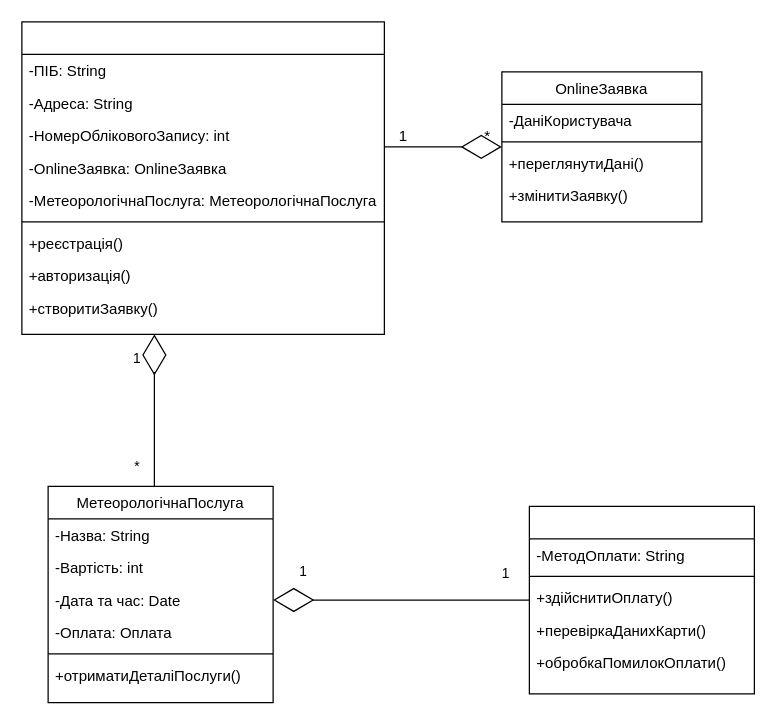
The diagram is 776 pixels wide and 725 high, and some of its shapes have lost their labels. The box of each missing label's shape, as (x1, y1, x2, y2) in pixels:
Користувач: (21, 21, 384, 334)
Оплата: (528, 505, 754, 694)
